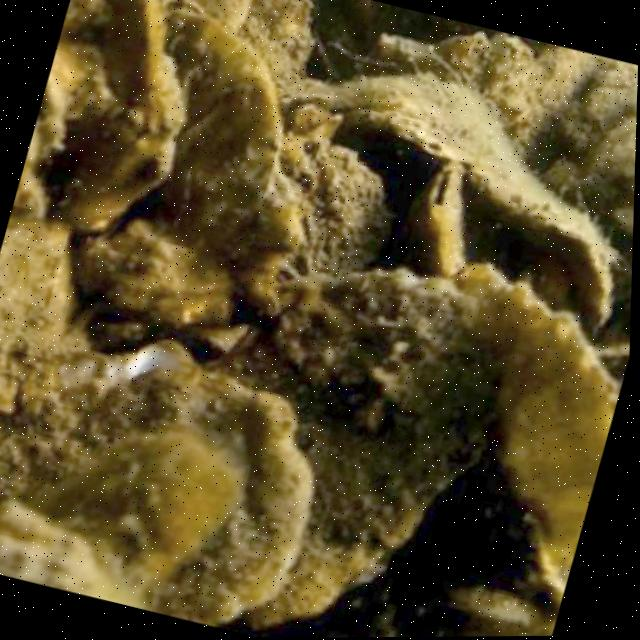Oyster-Closed: (299, 75, 613, 326)
Oyster-Indeterminate: (213, 264, 489, 624), (0, 343, 320, 625), (379, 268, 617, 635), (68, 19, 297, 330), (8, 0, 200, 230), (485, 46, 638, 303), (0, 231, 128, 418)
Oyster-Open: (410, 161, 465, 278)
